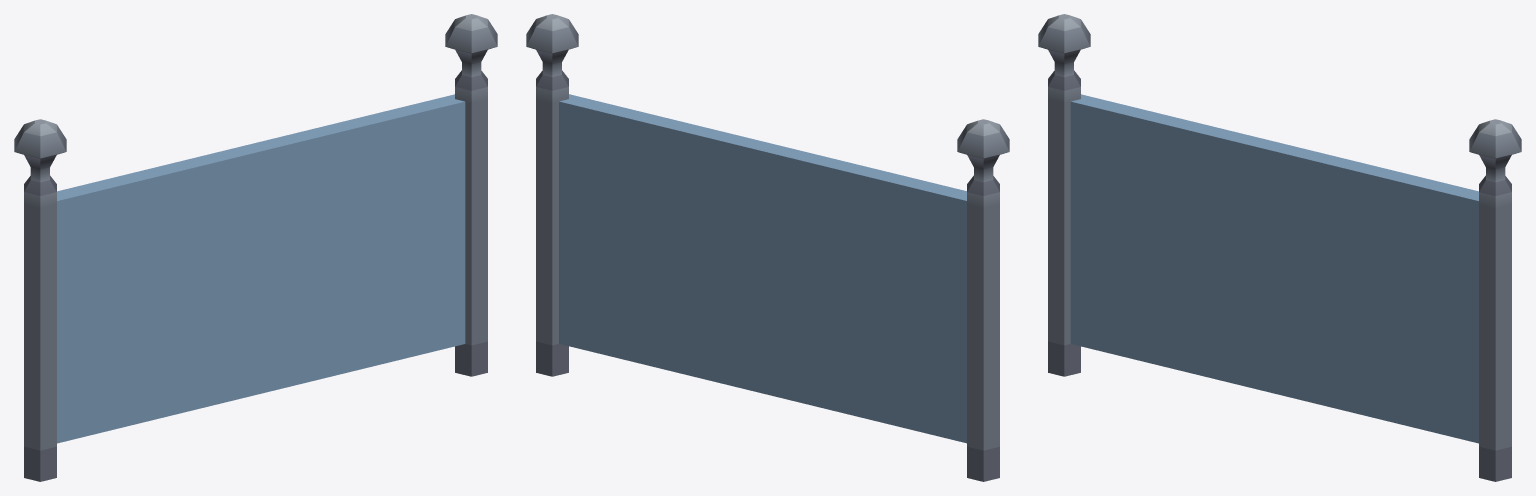
File: divider.fbx
The picture shows the model from 3 angles, left to right: view 1: azimuth 30°, elevation 25°; view 2: azimuth 150°, elevation 25°; view 3: azimuth 330°, elevation 25°; orthographic projection.
Parts seen in each view (by area): view 1: diveder_half; view 2: diveder_half; view 3: diveder_half.
Boxes of the visible parts, x1=… form: diveder_half: x1=14, y1=14, x2=497, y2=481; diveder_half: x1=526, y1=14, x2=1009, y2=481; diveder_half: x1=1038, y1=14, x2=1521, y2=481.
Size of the model in its own units: 1.9 by 1.32 by 0.1778.
